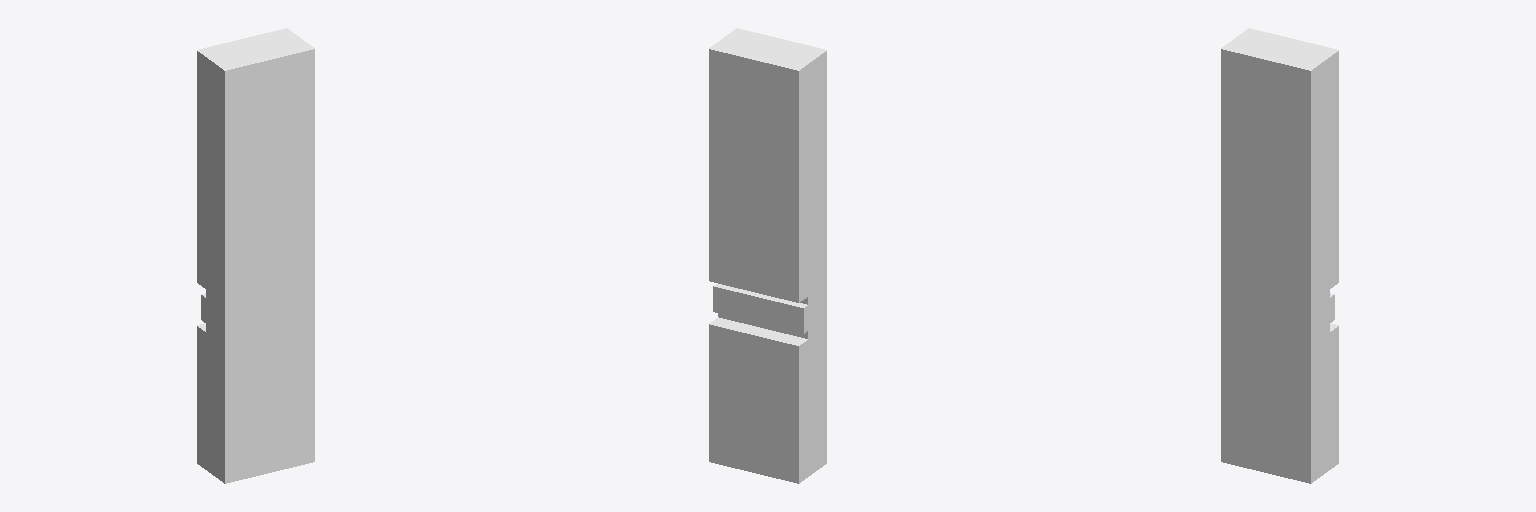
Rendered from mart-4.obj.
3 renders of one model, left to right at view 1: azimuth 30°, elevation 25°; view 2: azimuth 150°, elevation 25°; view 3: azimuth 330°, elevation 25°, orthographic.
Parts seen in each view (by area): view 1: object 1; view 2: object 1; view 3: object 1.
Boxes of the visible parts, <box> form: object 1: <box>197,28,314,483</box>; object 1: <box>709,28,826,483</box>; object 1: <box>1221,28,1338,483</box>.
Size of the model in its own units: 1.1 by 4.8 by 0.6.